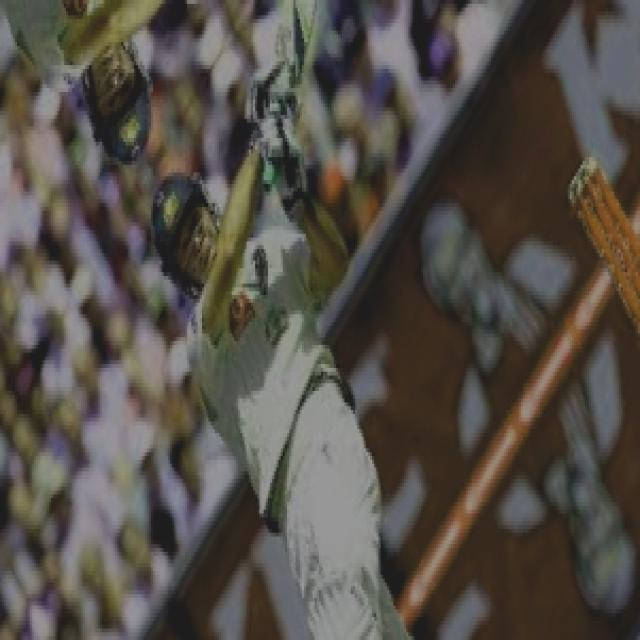toe: (291, 0, 320, 16)
